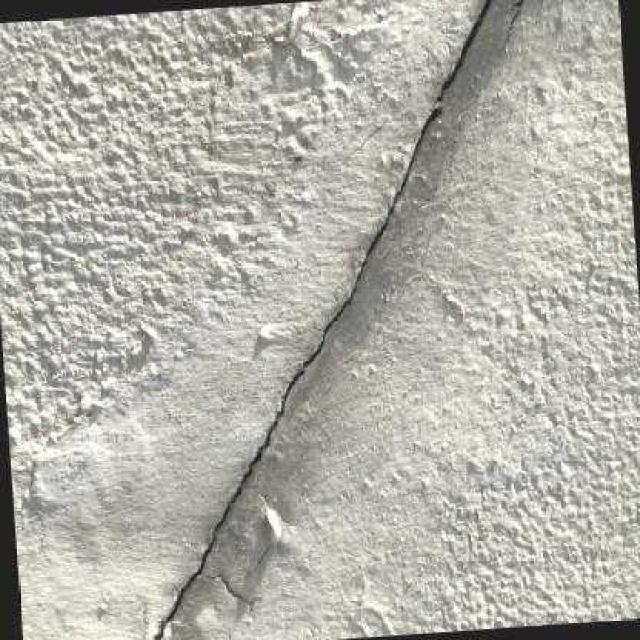D00: (151, 0, 492, 640)
